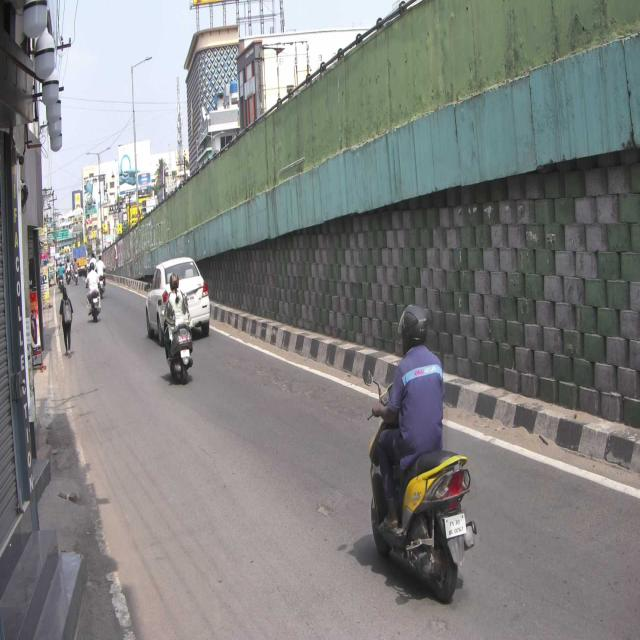single_rider: (367, 298, 476, 606)
